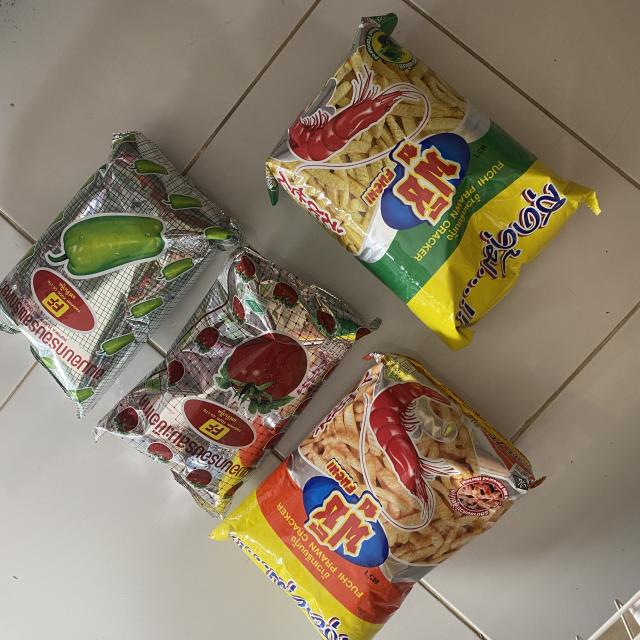plastik: (266, 14, 600, 350), (211, 352, 540, 640), (94, 246, 379, 518), (0, 131, 244, 418)
